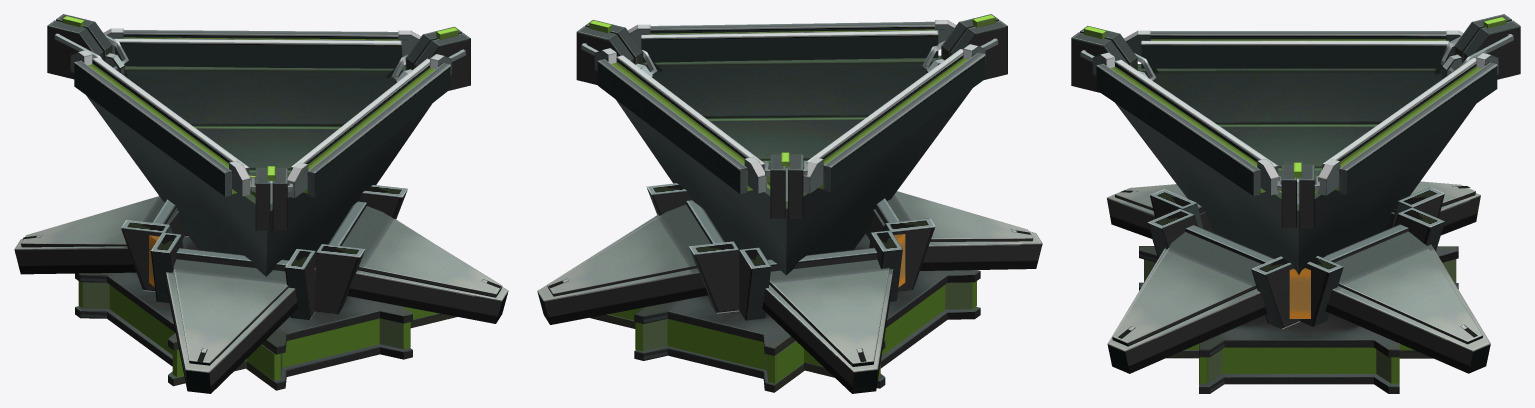
Rendered from trap_329_rift.fbx.
3 renders of one model, left to right at view 1: azimuth 30°, elevation 25°; view 2: azimuth 150°, elevation 25°; view 3: azimuth 270°, elevation 25°, orthographic. The views are drawn at different scales.
Visible parts, largest first — view 1: trap_329_rift; view 2: trap_329_rift; view 3: trap_329_rift.
Boxes of the visible parts, x1,y1,x2,y2 form: trap_329_rift: (14, 14, 508, 393); trap_329_rift: (537, 14, 1042, 393); trap_329_rift: (1071, 14, 1520, 393).
Size of the model in its own units: 0.8877 by 0.5781 by 0.9219.
1 material, 1 textured.
